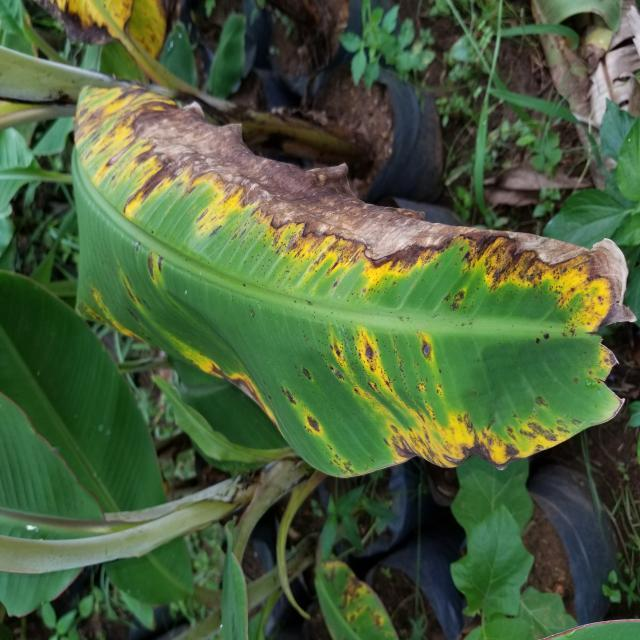Early_rust: (23, 65, 640, 474), (28, 0, 185, 85)
